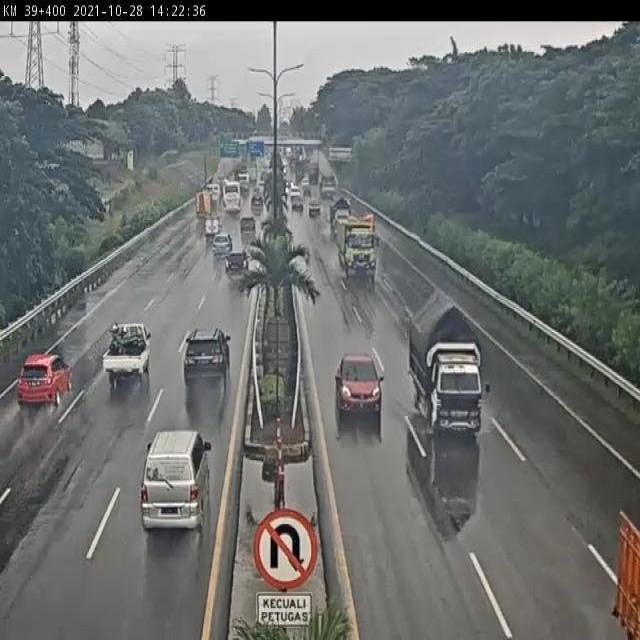car: (141, 429, 211, 534), (16, 352, 72, 411), (333, 356, 385, 416), (179, 324, 230, 383), (102, 325, 154, 380)
truck-l-: (339, 215, 384, 284)
truck-s-: (407, 287, 487, 432)
